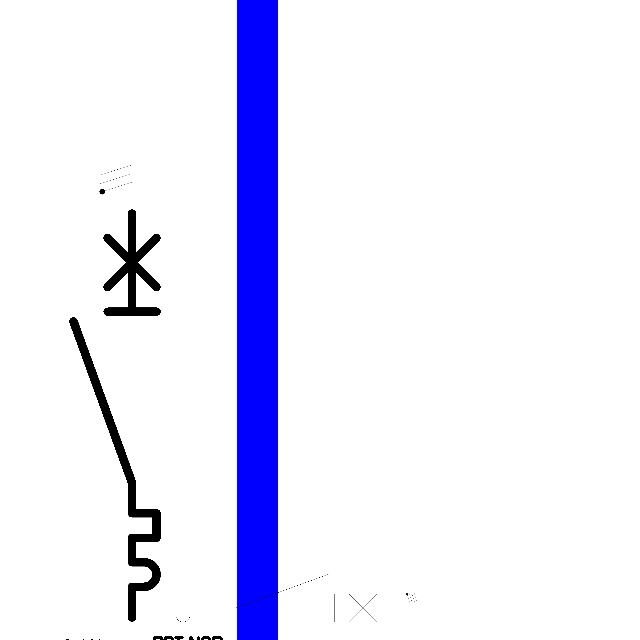interruptor_termomagnetico: (63, 203, 167, 628), (152, 568, 397, 628)
